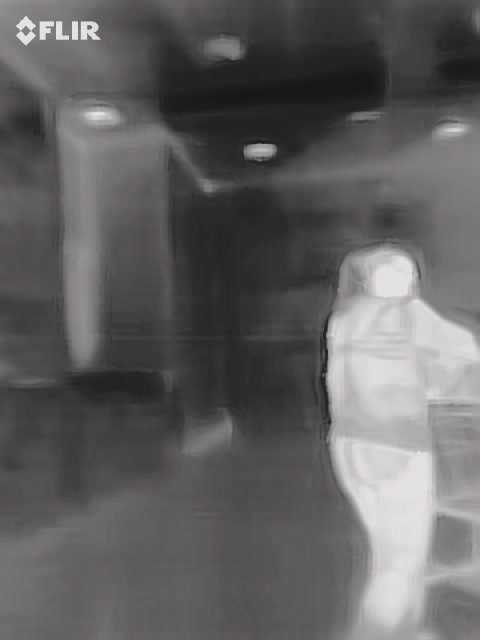head: (354, 246, 420, 299)
